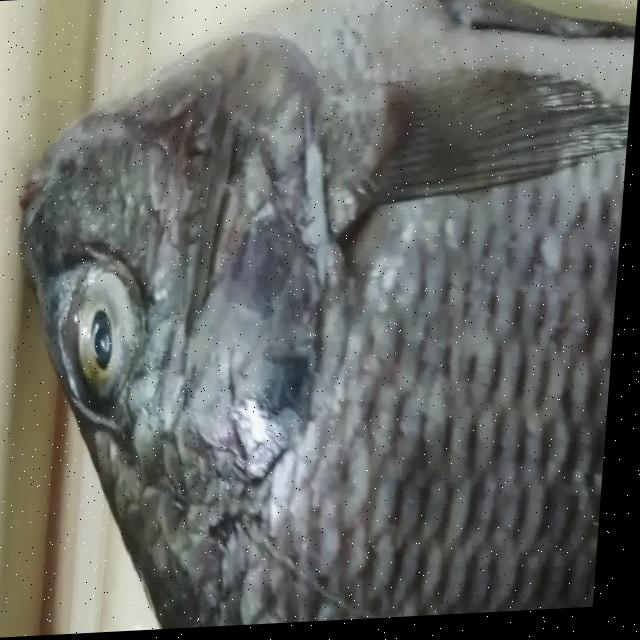Non-Fresh: (52, 256, 151, 409)
